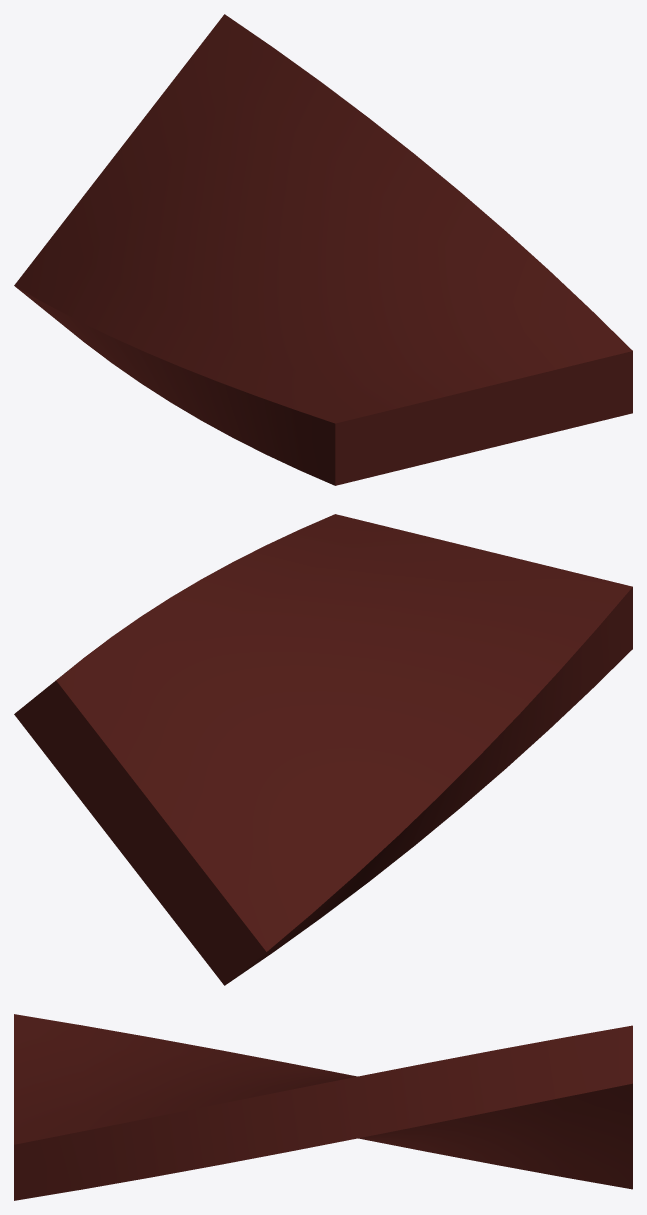
The model's file is vox_road_twistleft.fbx.
3 renders of one model, top to bottom at view 1: azimuth 30°, elevation 25°; view 2: azimuth 150°, elevation 25°; view 3: azimuth 270°, elevation 25°, orthographic. The views are drawn at different scales.
Parts seen in each view (by area): view 1: Cube.004; view 2: Cube.004; view 3: Cube.004.
Boxes of the visible parts, x1,y1,x2,y2 form: Cube.004: (14, 14, 632, 485); Cube.004: (14, 514, 632, 985); Cube.004: (14, 1014, 632, 1200).
Bounding box in the file's own units: 65.25 × 54.31 × 128.
